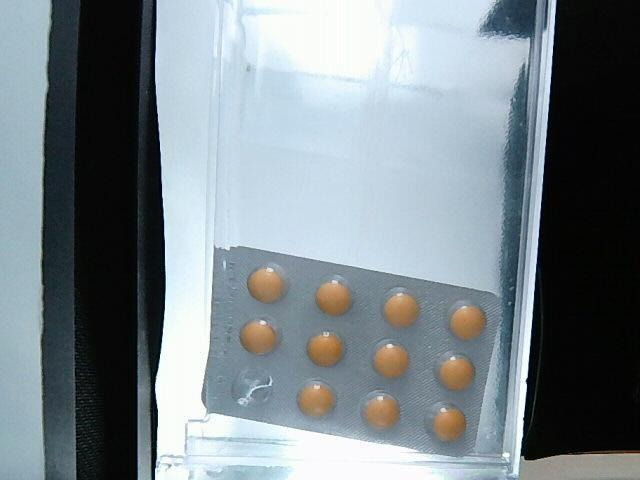Light Front: (204, 248, 501, 456)
No Pill Front: (233, 368, 273, 407)
Pill Front: (248, 264, 289, 303), (315, 275, 351, 314), (384, 289, 420, 327), (450, 301, 486, 339), (438, 353, 475, 389), (374, 341, 409, 377), (306, 331, 343, 365), (240, 320, 277, 354), (365, 395, 398, 428), (299, 385, 334, 416), (433, 409, 465, 441)
